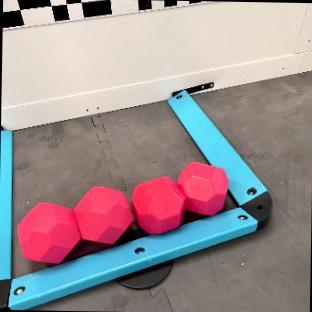V5_RED: (18, 186, 131, 262)
